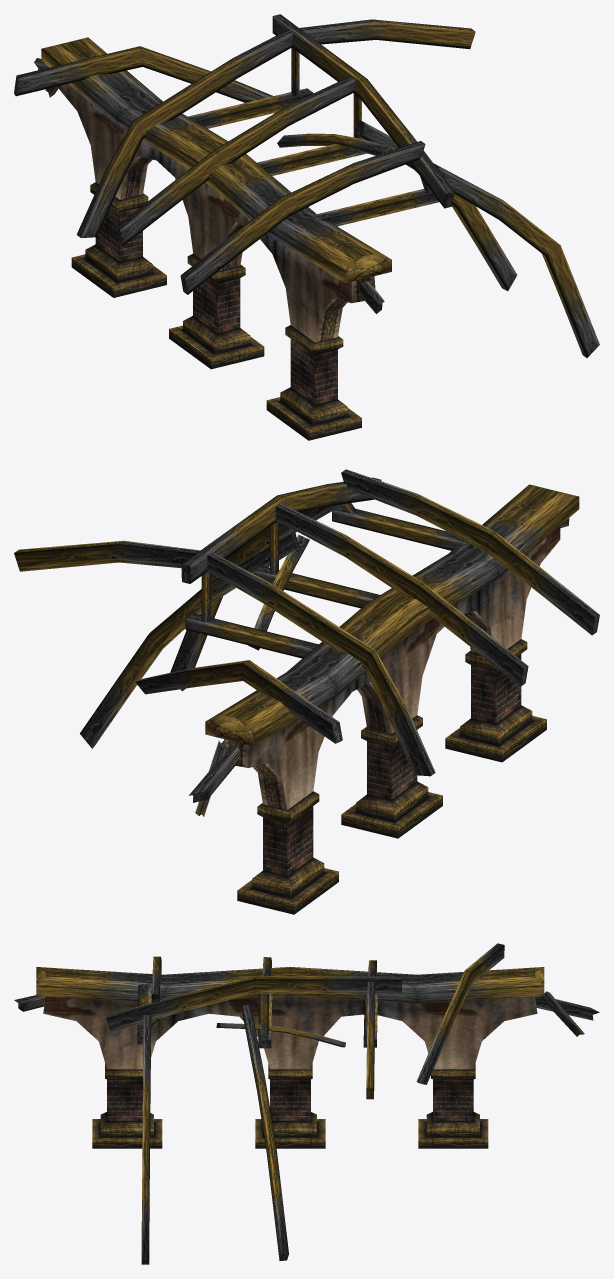
File: CB_ARENA_BUILDING02.fbx
3 renders of one model, top to bottom at view 1: azimuth 30°, elevation 25°; view 2: azimuth 150°, elevation 25°; view 3: azimuth 270°, elevation 25°, orthographic. The views are drawn at different scales.
Parts seen in each view (by area): view 1: CB_ARENA_BUILDING02; view 2: CB_ARENA_BUILDING02; view 3: CB_ARENA_BUILDING02.
Part boxes in pixels (bbox=[...]): CB_ARENA_BUILDING02: bbox=[14, 14, 599, 440]; CB_ARENA_BUILDING02: bbox=[14, 469, 599, 914]; CB_ARENA_BUILDING02: bbox=[14, 943, 599, 1264].
Bounding box in the file's own units: 197796 × 120817 × 287446.
Materials: 7 (7 with a texture image).
